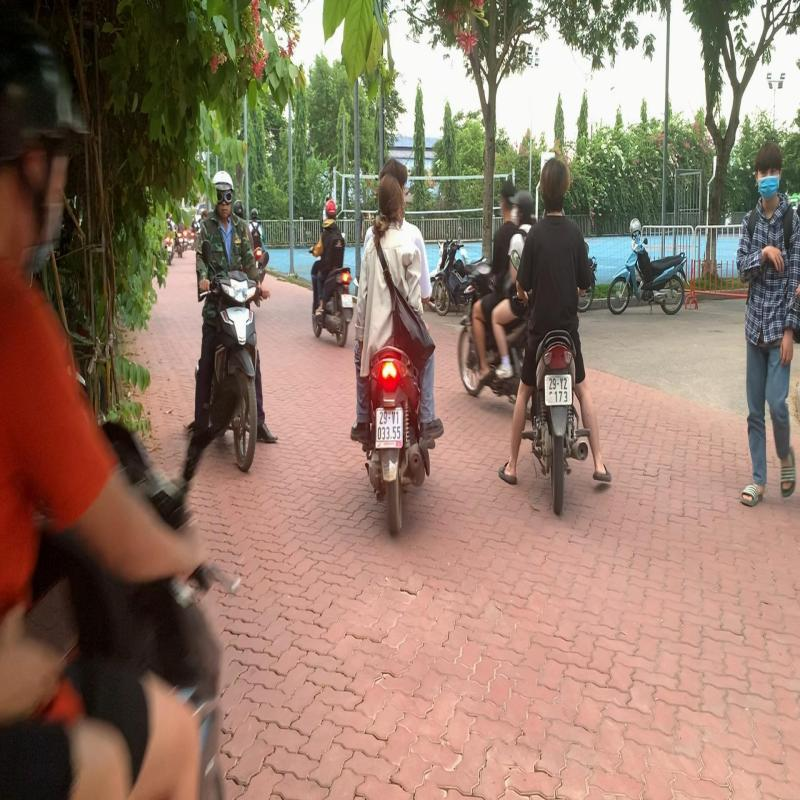nohelmet: (539, 154, 570, 210), (376, 172, 404, 226)
